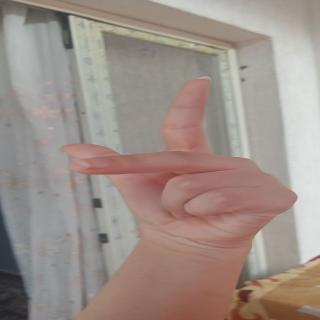DHAA: (60, 68, 296, 234)
